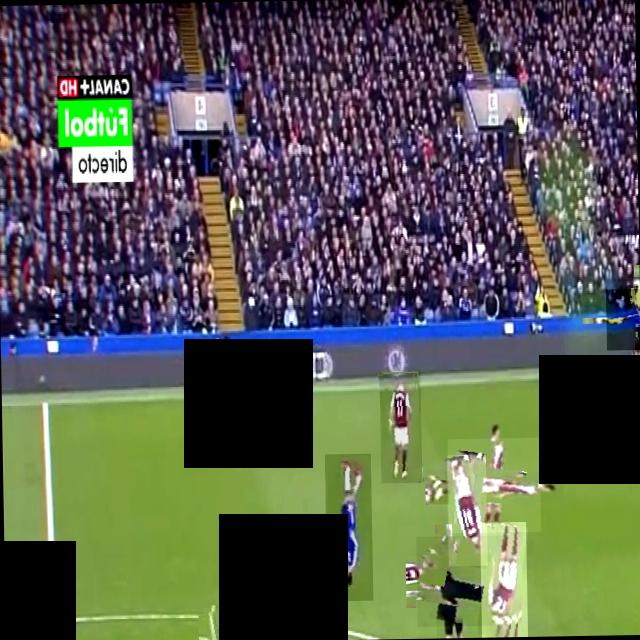referee: (416, 534, 508, 626), (605, 288, 640, 350)
soccer-player: (447, 437, 541, 533), (324, 453, 373, 601), (480, 522, 528, 638), (379, 371, 422, 483), (447, 454, 488, 566), (203, 606, 245, 640)
